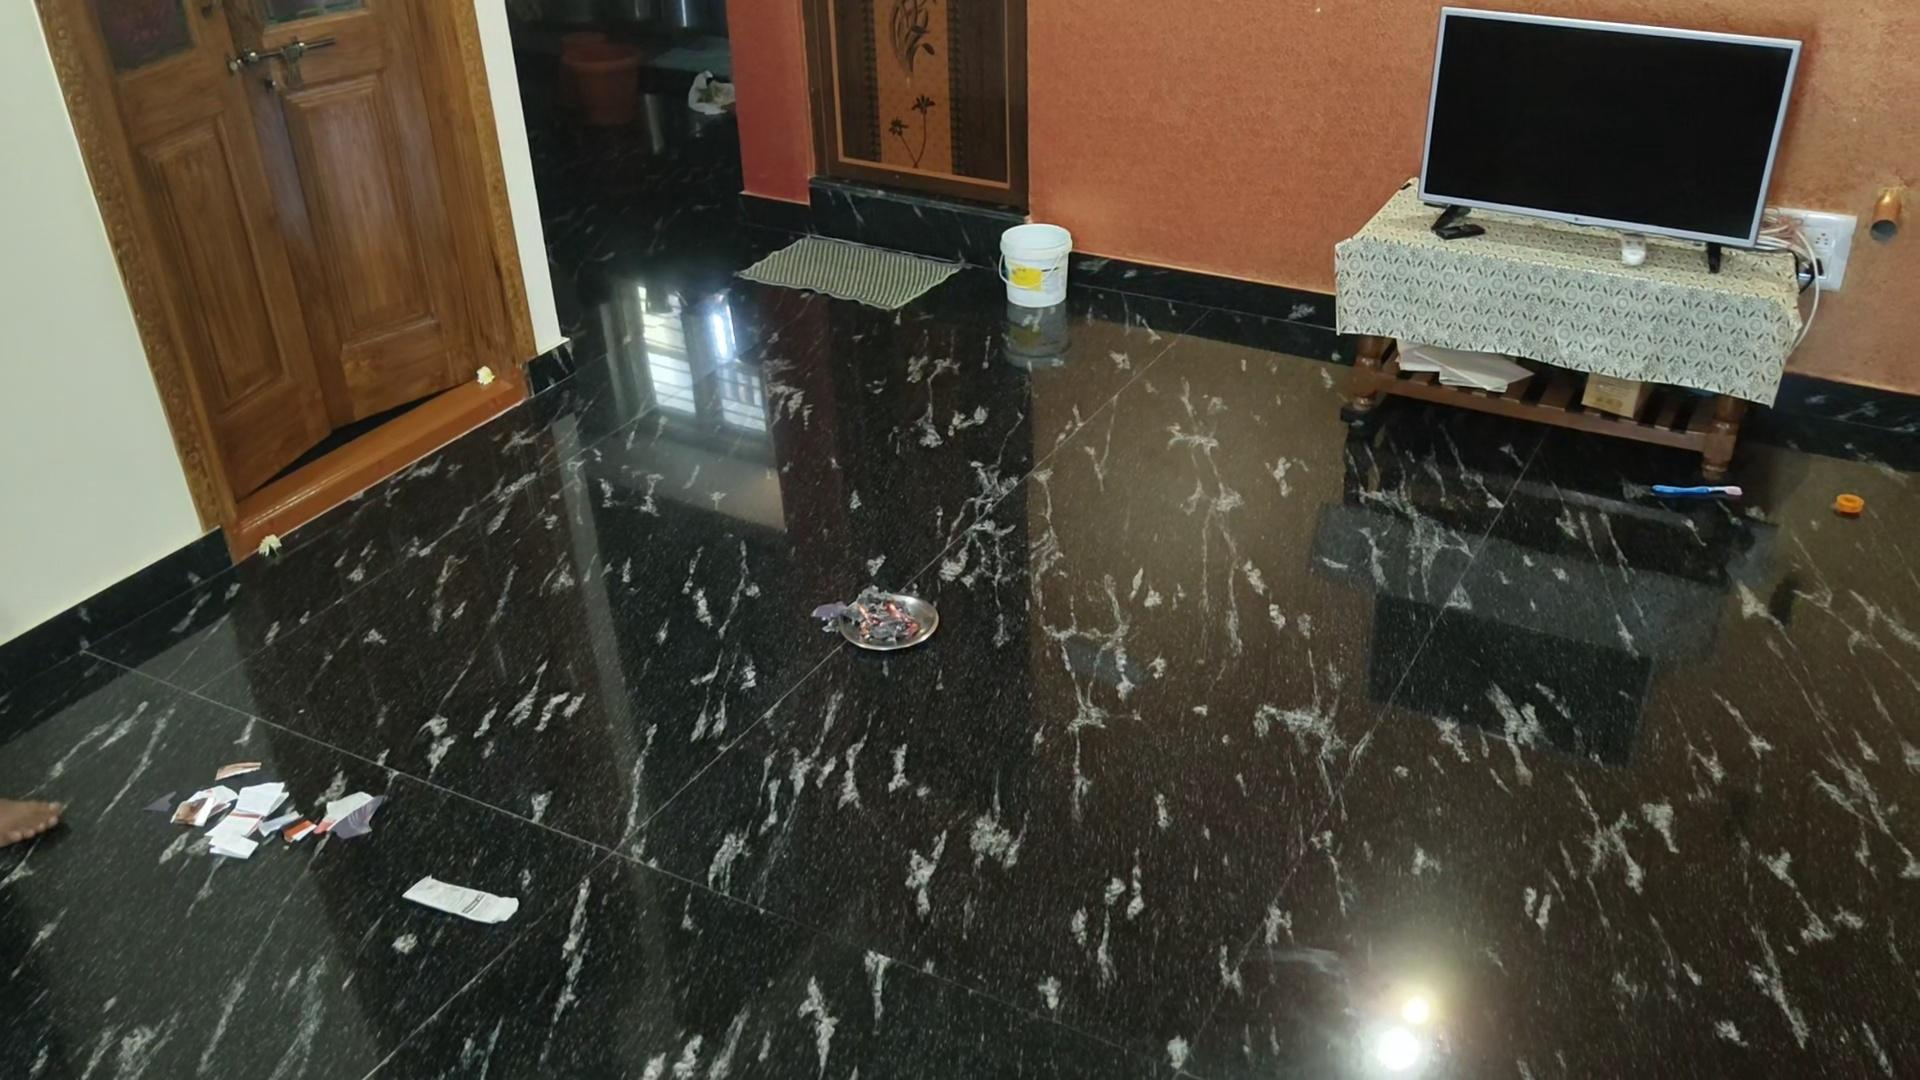Fire: (848, 596, 923, 642)
